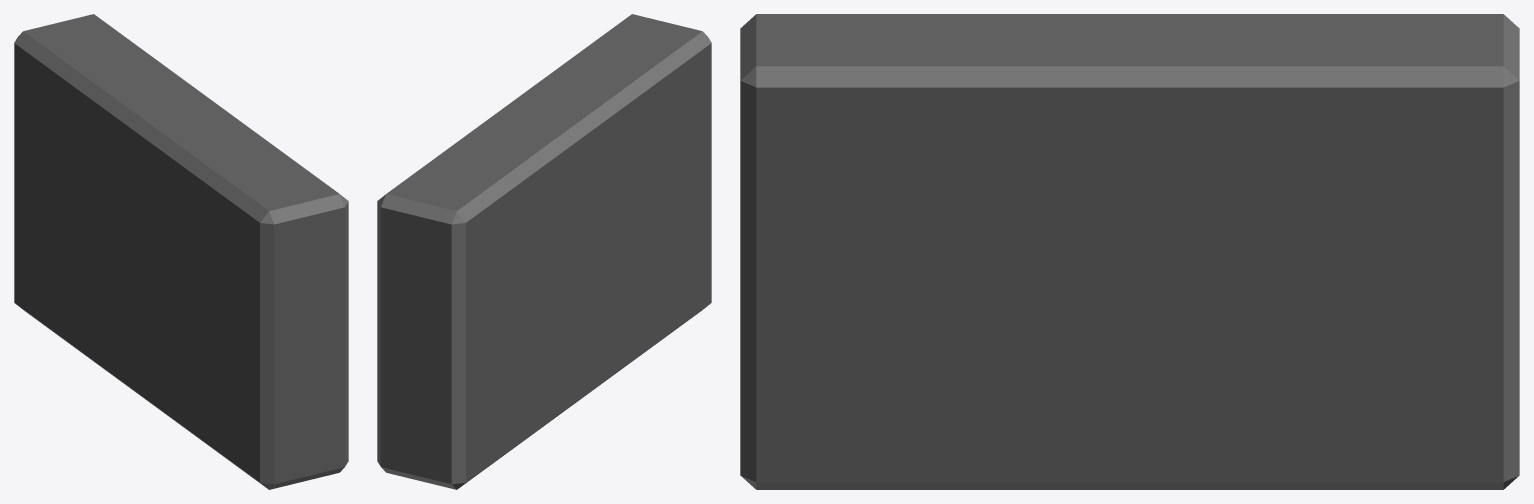
Rendered from Wall_B_3_1.fbx.
3 renders of one model, left to right at view 1: azimuth 30°, elevation 25°; view 2: azimuth 150°, elevation 25°; view 3: azimuth 270°, elevation 25°, orthographic. The views are drawn at different scales.
Parts seen in each view (by area): view 1: Wall_B_3_1; view 2: Wall_B_3_1; view 3: Wall_B_3_1.
Boxes of the visible parts, x1,y1,x2,y2 form: Wall_B_3_1: [14, 14, 348, 489]; Wall_B_3_1: [377, 14, 711, 489]; Wall_B_3_1: [740, 14, 1519, 489].
Bounding box in the file's own units: 40 × 120 × 200.
